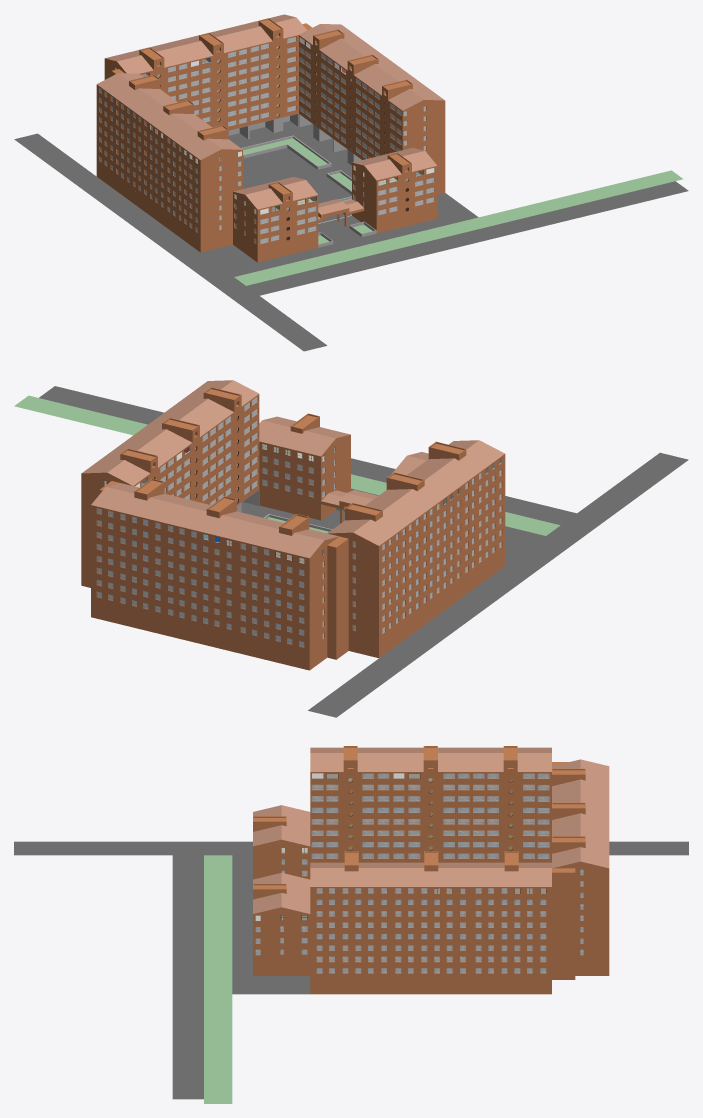
Rendered from Emmeline 3D.fbx.
3 renders of one model, top to bottom at view 1: azimuth 30°, elevation 25°; view 2: azimuth 150°, elevation 25°; view 3: azimuth 270°, elevation 25°, orthographic. The views are drawn at different scales.
Visible parts, largest first — view 1: Fasad, Yttertak.001, D8 innerwalls, D1 inner walls.003; view 2: Fasad, Yttertak.001, D8 innerwalls; view 3: Fasad, Yttertak.001, D1 inner walls.003, D8 innerwalls.
Part boxes in pixels (<box>): Fasad: <box>14,23,688,351</box>; Yttertak.001: <box>97,14,444,219</box>; D8 innerwalls: <box>352,163,437,190</box>; D1 inner walls.003: <box>233,192,318,219</box>; Fasad: <box>14,386,688,717</box>; Yttertak.001: <box>82,380,504,558</box>; D8 innerwalls: <box>259,435,350,468</box>; Fasad: <box>14,762,688,1103</box>; Yttertak.001: <box>253,746,609,913</box>; D1 inner walls.003: <box>253,846,310,857</box>; D8 innerwalls: <box>253,914,310,925</box>.
Size of the model in its own units: 12291 by 2813 by 13377.
